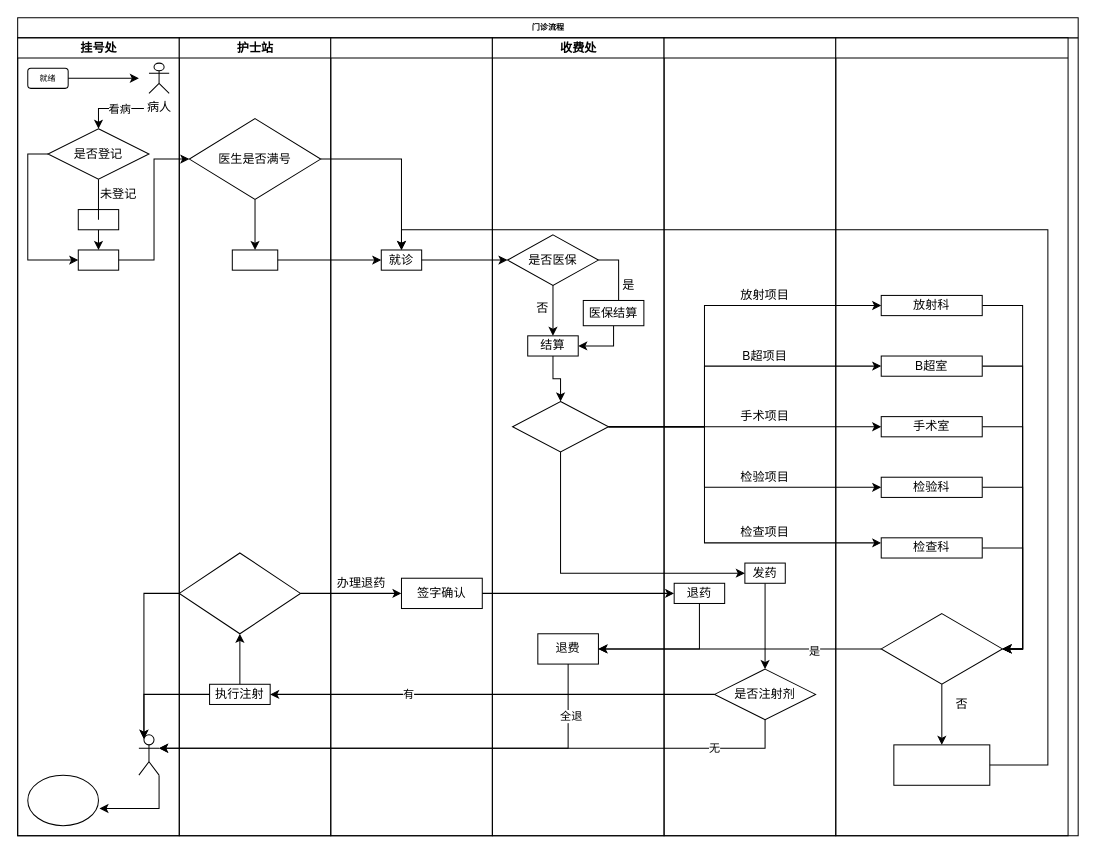
Image size: 1096x853. Some labels were removed from this diagram. The shapes that lost their labels are listed below. From the top down, each one's box as (x1, y1, x2, y2) in pixels, then its label:
(77, 209, 119, 230): 登记
(77, 249, 119, 270): 挂号
(231, 249, 278, 270): 分诊
(330, 37, 492, 836): 医生站
(512, 400, 609, 452): 治疗项目
(663, 37, 836, 836): 药房
(835, 37, 1068, 836): 辅助科室
(178, 552, 300, 634): 是否有过敏药物 导致不能用药
(880, 613, 1002, 684): 是否有未执行 项目
(138, 734, 159, 775): Actor
(893, 744, 990, 785): 返回项目结果
(27, 774, 98, 826): 终结流程
